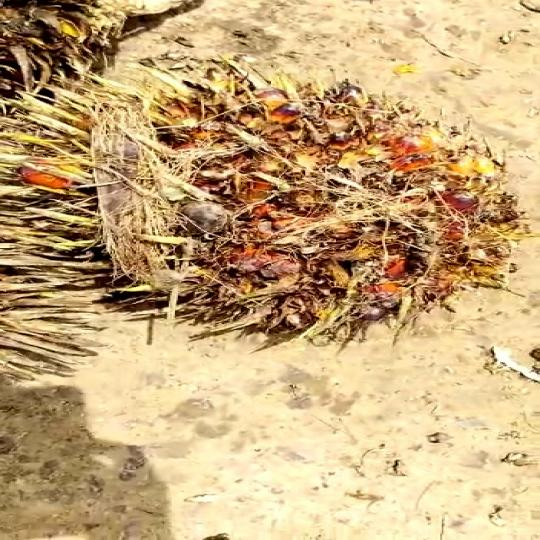terlalu masak: (16, 59, 540, 336)
